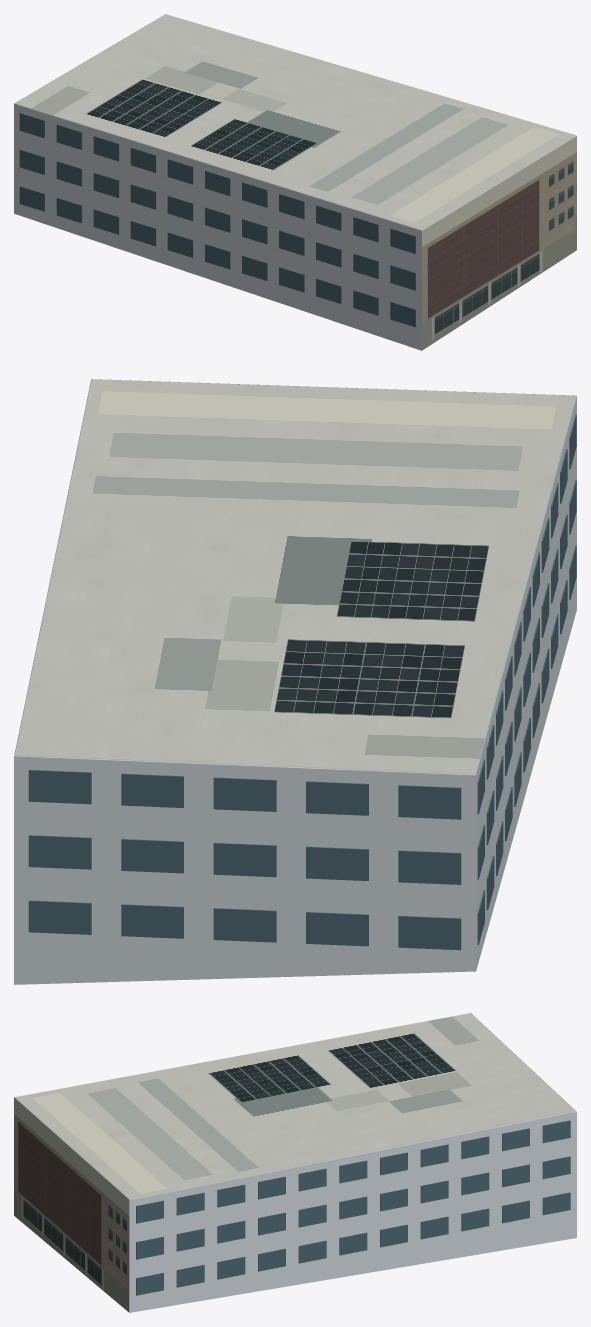
The model's file is intact.glb.
3 views of the same model, one above another, from view 1: azimuth 30°, elevation 25°; view 2: azimuth 150°, elevation 25°; view 3: azimuth 270°, elevation 25° (orthographic). The views are drawn at different scales.
Parts seen in each view (by area): view 1: SM_nursing_Intact_00, SM_nursing_Intact_01; view 2: SM_nursing_Intact_00, SM_nursing_Intact_01; view 3: SM_nursing_Intact_00, SM_nursing_Intact_01.
Part boxes in pixels (left/top/right/bottom): SM_nursing_Intact_00: left=14, top=14, right=576, bottom=350; SM_nursing_Intact_01: left=19, top=113, right=415, bottom=327; SM_nursing_Intact_00: left=14, top=379, right=576, bottom=984; SM_nursing_Intact_01: left=28, top=414, right=576, bottom=950; SM_nursing_Intact_00: left=14, top=1013, right=576, bottom=1312; SM_nursing_Intact_01: left=136, top=1120, right=570, bottom=1295.
Size of the model in its own units: 1.73 by 0.5459 by 2.2.
5 materials, 2 textured.
